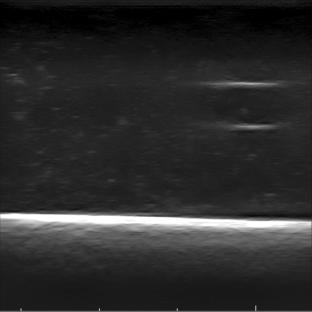vessel: (199, 81, 292, 133)
